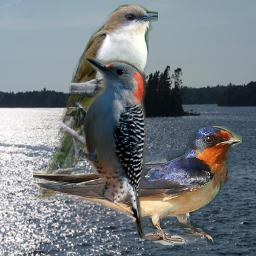Cuckoo: (33, 2, 158, 203)
Swallow: (33, 126, 242, 245)
Woodpecker: (71, 53, 146, 240)
